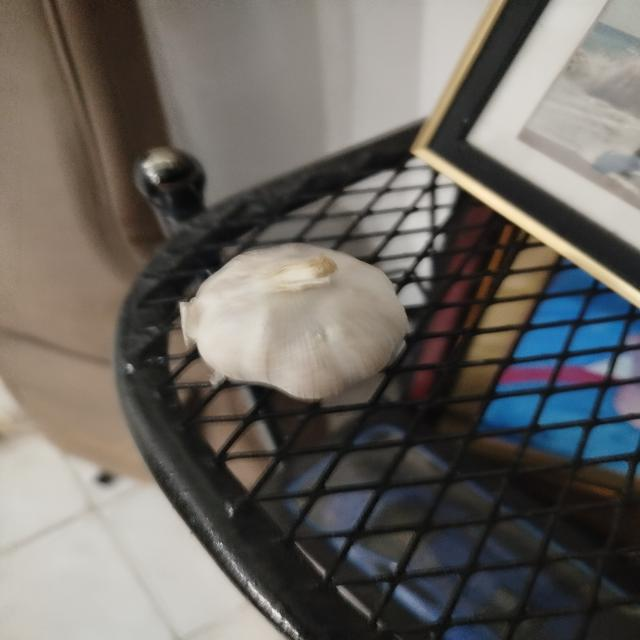garlic: (177, 242, 411, 402)
